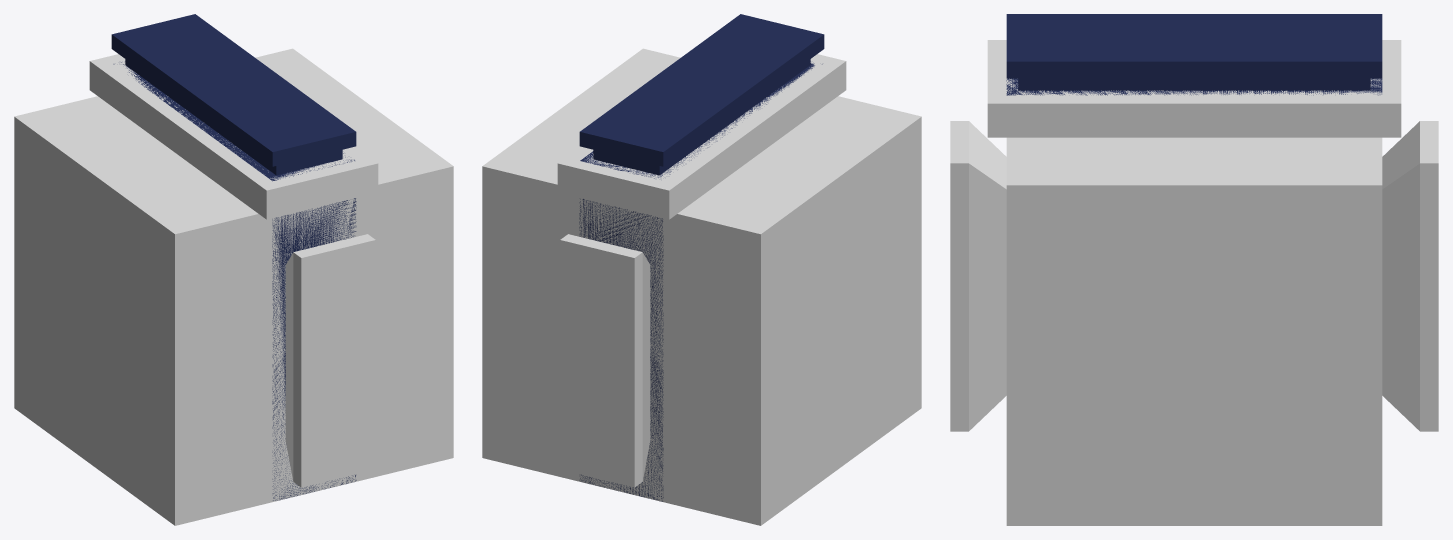
The model's file is Cartirage.fbx.
3 renders of one model, left to right at view 1: azimuth 30°, elevation 25°; view 2: azimuth 150°, elevation 25°; view 3: azimuth 270°, elevation 25°, orthographic. The views are drawn at different scales.
Parts seen in each view (by area): view 1: Cube.002, Cube, Cube.001; view 2: Cube.002, Cube, Cube.001; view 3: Cube.002, Cube, Cube.001.
Part boxes in pixels (box(x1,y1,x2,y2)): Cube.002: box(14, 48, 453, 525); Cube: box(89, 54, 378, 501); Cube.001: box(111, 14, 356, 500); Cube.002: box(482, 48, 921, 525); Cube: box(557, 54, 846, 501); Cube.001: box(579, 14, 824, 501); Cube.002: box(1006, 137, 1382, 525); Cube: box(950, 40, 1438, 431); Cube.001: box(1006, 14, 1382, 95).
Size of the model in its own units: 200 by 240 by 260.
